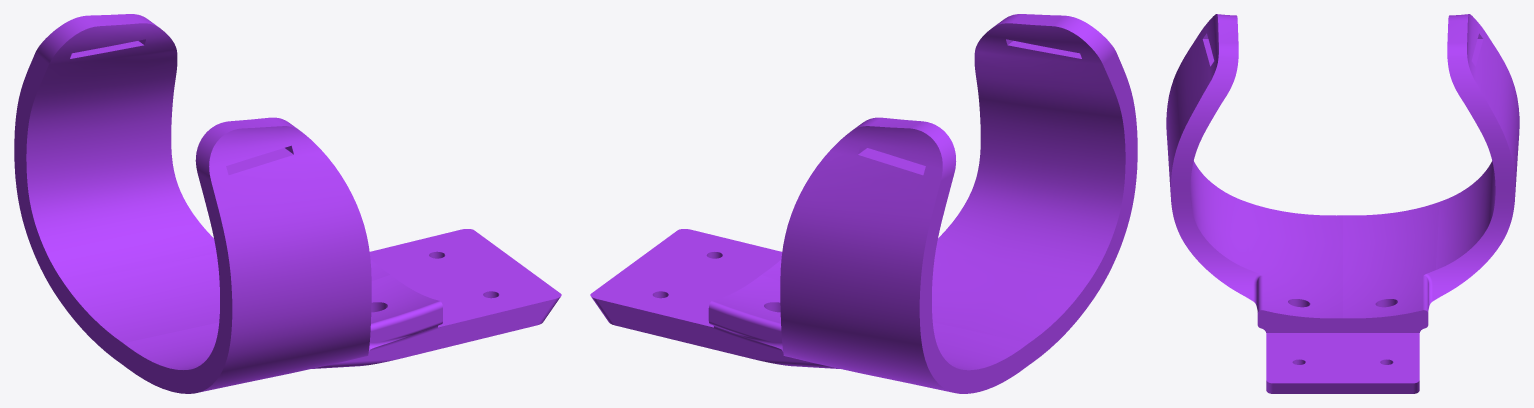
The model's file is socket_1 - copia.glb.
The picture shows the model from 3 angles, left to right: view 1: azimuth 30°, elevation 25°; view 2: azimuth 150°, elevation 25°; view 3: azimuth 270°, elevation 25°; orthographic projection. The views are drawn at different scales.
Parts seen in each view (by area): view 1: Socket 1; view 2: Socket 1; view 3: Socket 1.
Part boxes in pixels (left/top/right/bottom): Socket 1: left=14, top=14, right=561, bottom=393; Socket 1: left=590, top=14, right=1137, bottom=393; Socket 1: left=1166, top=14, right=1519, bottom=393.
Bounding box in the file's own units: 0.1685 × 0.1219 × 0.1614.
